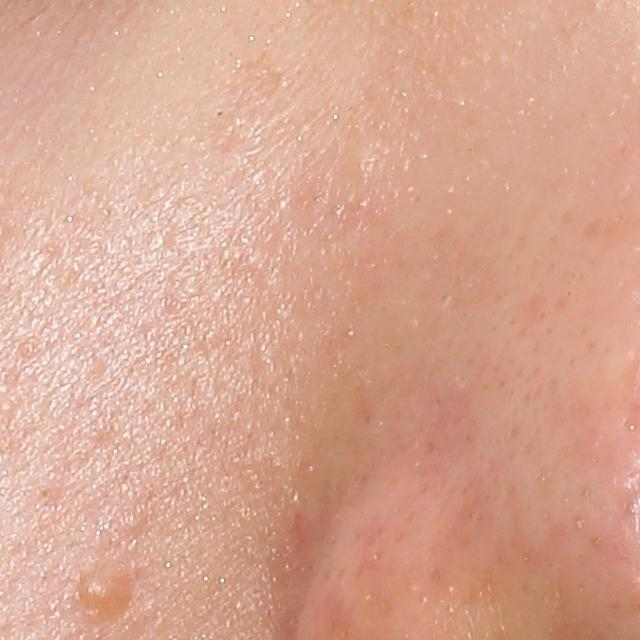comedo: (352, 148, 379, 177), (121, 508, 143, 531)
